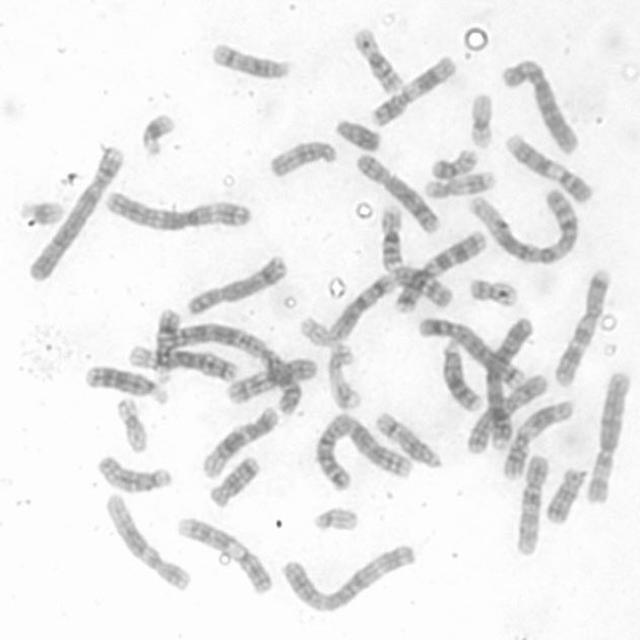A1: (298, 265, 454, 347), (464, 184, 582, 266)
A2: (155, 322, 305, 419), (314, 409, 415, 494)
A3: (280, 540, 418, 614), (103, 190, 253, 233)
B4: (23, 145, 125, 285), (484, 315, 536, 451)
B5: (418, 316, 527, 393), (152, 308, 239, 384)
C10: (225, 356, 318, 406), (515, 452, 552, 558)
C11: (367, 53, 457, 129), (501, 398, 574, 484)
C12: (104, 491, 194, 592), (200, 406, 281, 482)
C6: (502, 56, 583, 159), (584, 370, 634, 505)
C7: (393, 229, 489, 316), (552, 270, 614, 388)
C8: (352, 150, 441, 236), (187, 254, 285, 318)
C9: (176, 515, 274, 597), (504, 130, 594, 206)
D13: (83, 364, 169, 408), (438, 338, 485, 414)
D14: (376, 411, 445, 472), (207, 42, 296, 80)
D15: (96, 452, 172, 494), (267, 137, 337, 179)
E16: (352, 26, 406, 98), (379, 207, 404, 276)
E17: (325, 342, 362, 412), (422, 168, 496, 200)
E18: (206, 456, 261, 510), (544, 465, 588, 526)
F19: (114, 398, 150, 454), (467, 91, 496, 153)
F20: (467, 278, 519, 312), (429, 146, 478, 180)
G21: (138, 111, 178, 158), (18, 198, 66, 228)
G22: (126, 344, 172, 385), (313, 505, 362, 533)
X: (466, 372, 550, 456)
Y: (332, 116, 382, 154)
